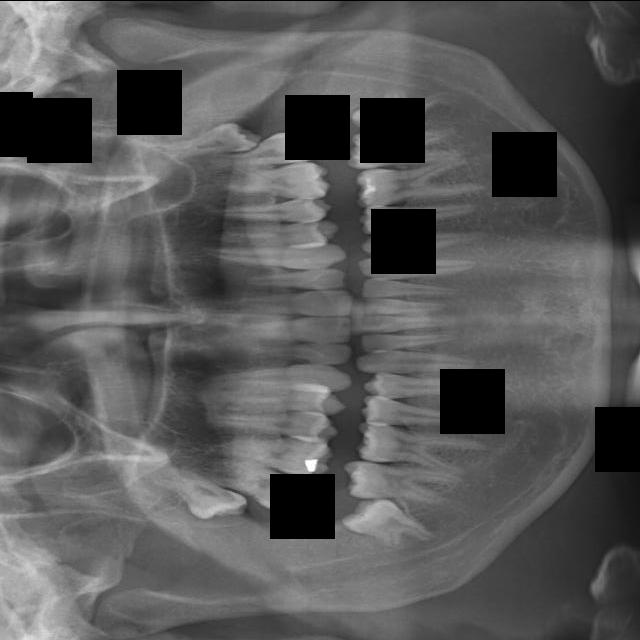3M ESPE Implant: (139, 451, 251, 535)
AGS Medikal Implant: (243, 267, 347, 289)
AMerOss Implant: (199, 241, 347, 273)
Amalgam filling: (212, 218, 340, 247)
Anthogyr Implant: (203, 194, 334, 230)
Bicon Implant: (217, 159, 330, 201)
BioHorizons Implant: (203, 127, 322, 170)
BioLife Implant: (156, 117, 264, 162)
Biomet 3i Implant: (346, 54, 453, 157)
Blue Sky Bio Implant: (345, 122, 473, 170)
Camlog Implant: (352, 154, 483, 209)
Caries: (200, 453, 321, 519)
Composite filling: (357, 191, 478, 234)
Cowellmedi Implant: (359, 230, 492, 258)
Crown: (357, 257, 478, 278)
DENTSPLY Implant: (361, 276, 464, 297)
Dentatus Implant: (363, 297, 449, 314)
Dentis Implant: (361, 315, 454, 332)
Dentium Implant: (359, 332, 460, 352)
Euroteknika Implant: (356, 350, 479, 373)
Filling: (363, 370, 490, 409)
Frontier Implant: (358, 393, 480, 443)
Hiossen Implant: (217, 428, 335, 480)
Implant: (339, 458, 462, 511)
Implant Direct: (352, 419, 491, 479)
Keystone Dental Implant: (339, 483, 444, 566)
MIS Implant: (203, 404, 341, 443)
Mandible: (195, 378, 348, 415)
Maxilla: (192, 360, 353, 392)
Megagen Implant: (249, 341, 353, 364)
Neodent Implant: (235, 317, 352, 342)
Neoss Implant: (236, 290, 354, 315)
